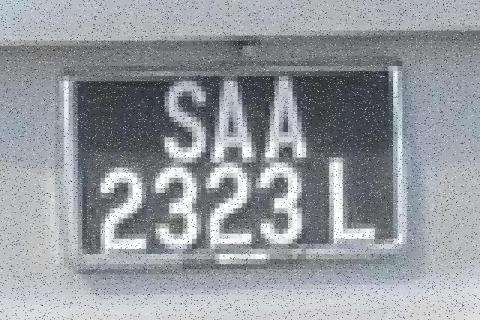LicensePlate: (58, 61, 414, 273)
